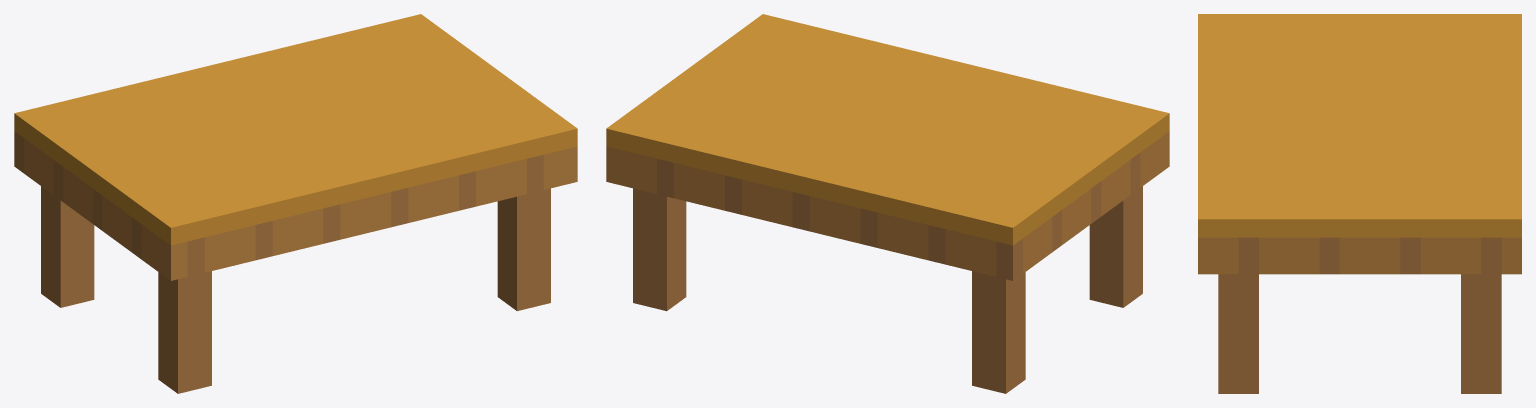
Rendered from table_wood.glb.
The picture shows the model from 3 angles, left to right: view 1: azimuth 30°, elevation 25°; view 2: azimuth 150°, elevation 25°; view 3: azimuth 270°, elevation 25°; orthographic projection. The views are drawn at different scales.
Bounding box in the file's own units: 2.4 × 1 × 1.6.
